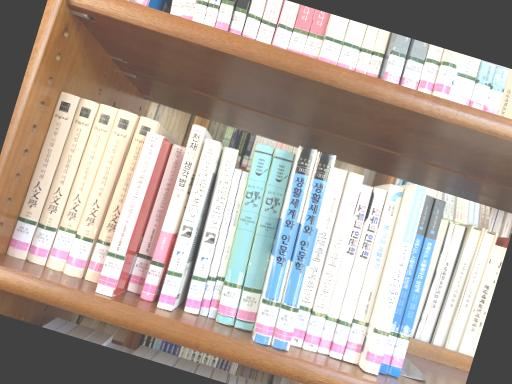book-spine: (253, 146, 317, 346), (272, 152, 335, 351), (63, 109, 137, 278), (84, 116, 158, 283), (6, 92, 78, 260), (26, 98, 98, 266), (45, 104, 117, 272), (365, 184, 427, 375), (140, 124, 205, 302), (95, 132, 164, 297), (302, 172, 364, 353), (157, 139, 220, 311), (343, 184, 403, 364), (235, 148, 294, 331), (215, 144, 273, 326), (290, 167, 348, 348), (387, 199, 445, 377), (378, 195, 434, 374), (330, 188, 386, 360), (318, 185, 373, 355), (184, 147, 238, 315), (127, 144, 186, 294), (199, 169, 241, 317), (208, 171, 248, 319)
